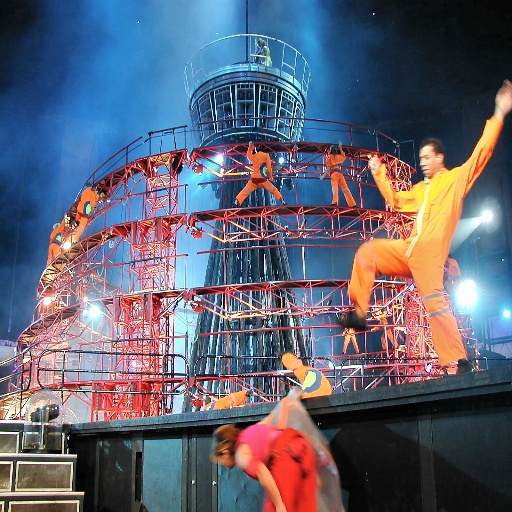hand: (495, 80, 511, 112), (366, 154, 382, 172), (276, 505, 287, 511), (318, 172, 324, 182), (337, 139, 343, 148), (248, 139, 254, 145), (269, 178, 274, 185), (254, 35, 256, 40)
